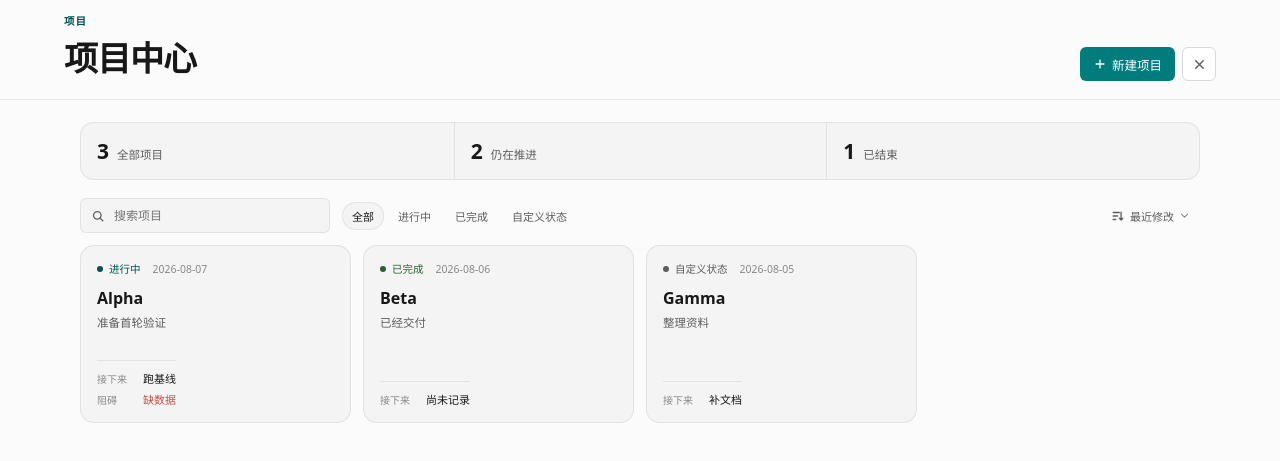
Test: 项目中心 › 右键（手机上长按）卡片可以删除项目，交给上层走文档树那条确认流程
This screenshot has width=1280, height=461.
Right-click the button "已完成 2026-08-06 Beta 已经交付 接下来 尚未记录" at (408, 269), box [363, 245, 634, 423]
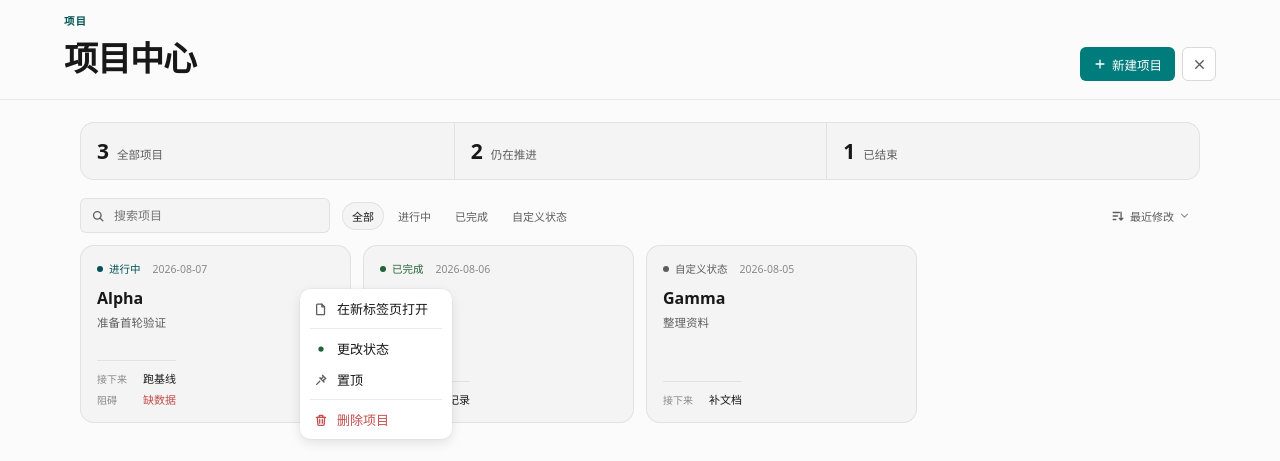
Click the button "删除项目" at (376, 420), box [304, 404, 448, 435]
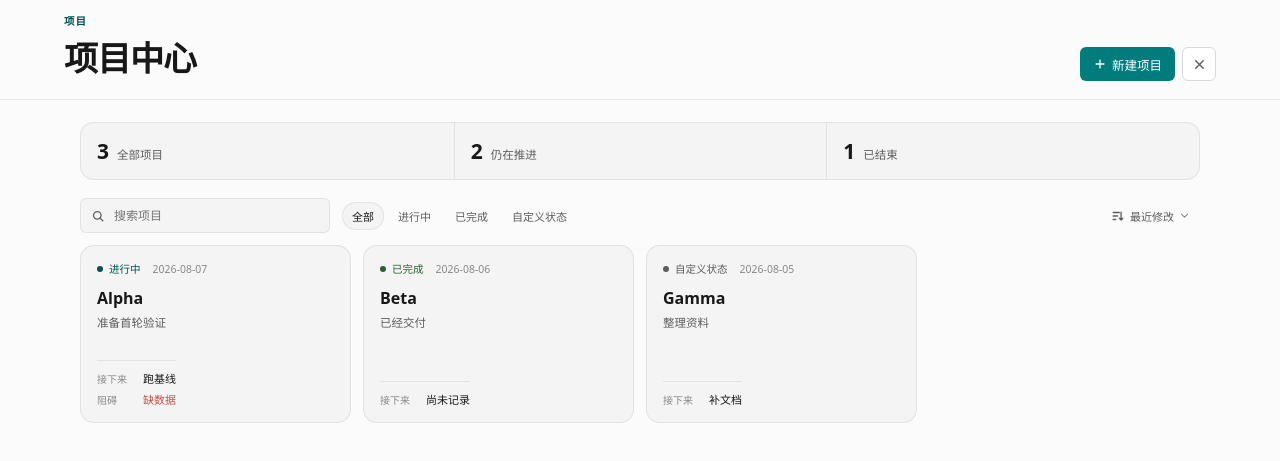
Check: the list with class "ctx" is gone
